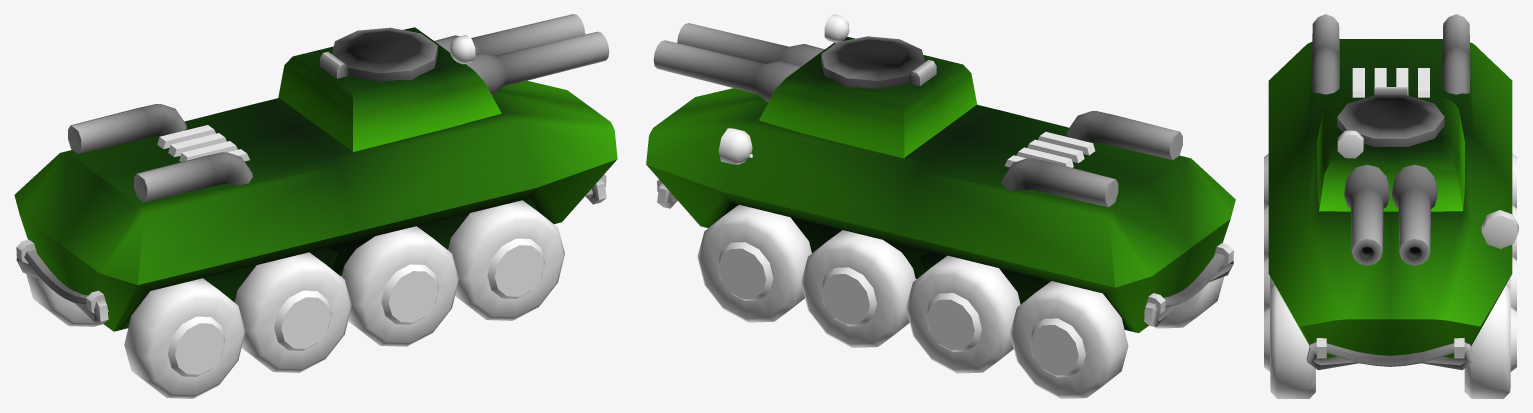
Rendered from APC3_w.fbx.
3 renders of one model, left to right at view 1: azimuth 30°, elevation 25°; view 2: azimuth 150°, elevation 25°; view 3: azimuth 270°, elevation 25°, orthographic. The views are drawn at different scales.
Parts seen in each view (by area): view 1: Tank4_Green, Barrel1, TankAcc1; view 2: Tank4_Green, Barrel1, TankAcc1; view 3: Tank4_Green, Barrel1, TankAcc1.
Part boxes in pixels (box(x1,y1,x2,y2)): Tank4_Green: box(14, 80, 617, 398); Barrel1: box(278, 14, 609, 151); TankAcc1: box(157, 125, 249, 161); Tank4_Green: box(646, 88, 1235, 398); Barrel1: box(653, 14, 977, 158); TankAcc1: box(1004, 131, 1095, 167); Tank4_Green: box(1264, 14, 1518, 398); Barrel1: box(1317, 87, 1464, 265); TankAcc1: box(1352, 68, 1429, 97).
Size of the model in its own units: 57.61 by 26.53 by 23.98.
